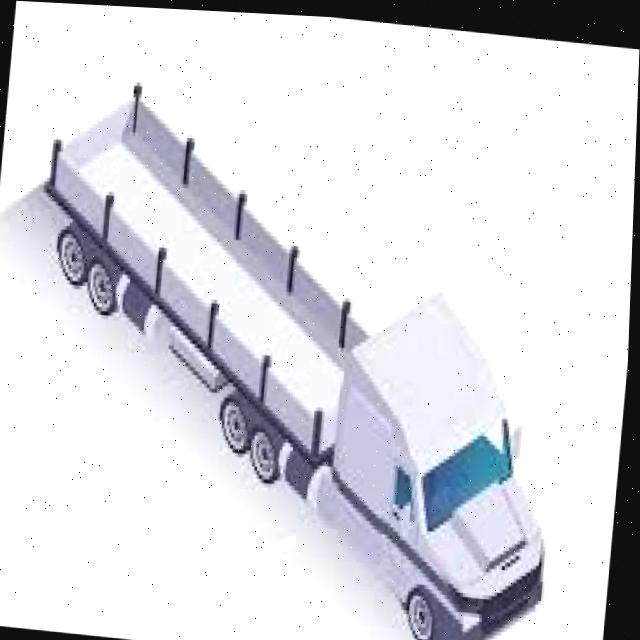truck: (10, 70, 584, 640)
